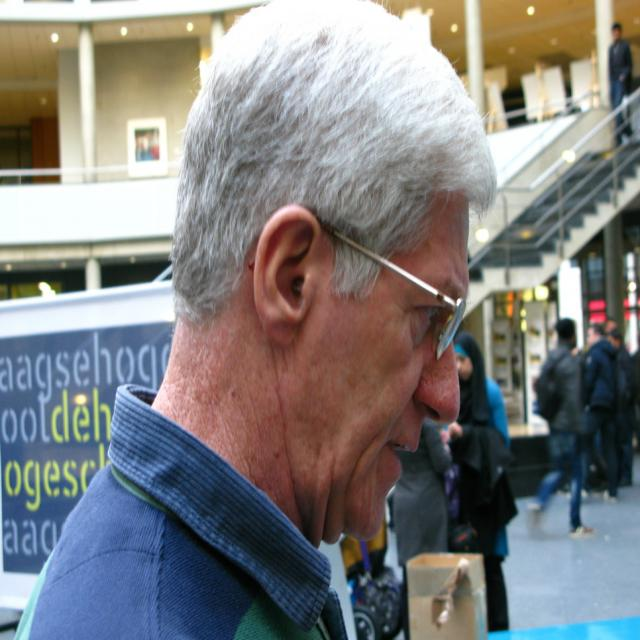Glasses: (288, 212, 465, 348)
